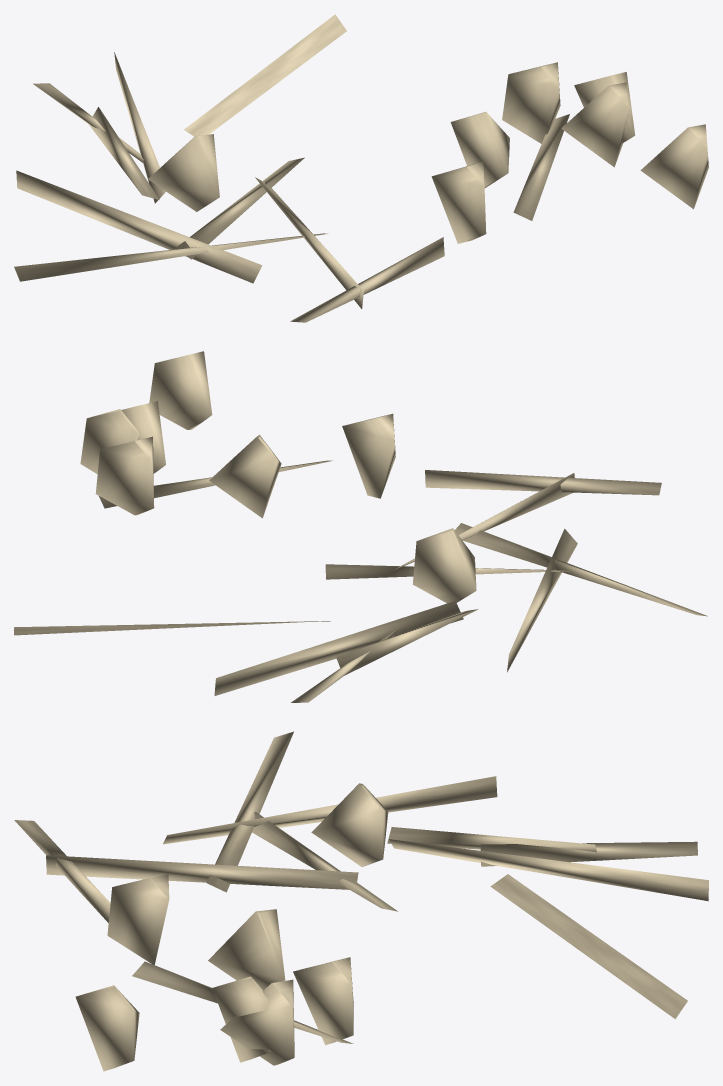
The model's file is Bones_Scatter_3_LOD2.gltf.
3 views of the same model, one above another, from view 1: azimuth 30°, elevation 25°; view 2: azimuth 150°, elevation 25°; view 3: azimuth 270°, elevation 25° (orthographic). The views are drawn at different scales.
Visible parts, largest first — view 1: Bones_Scatter_3_LOD2; view 2: Bones_Scatter_3_LOD2; view 3: Bones_Scatter_3_LOD2.
Boxes of the visible parts, x1,y1,x2,y2 form: Bones_Scatter_3_LOD2: (14, 14, 708, 322); Bones_Scatter_3_LOD2: (14, 351, 707, 702); Bones_Scatter_3_LOD2: (14, 731, 708, 1071).
Size of the model in its own units: 1.85 by 0.226 by 1.64.
Materials: 1 (1 with a texture image).
